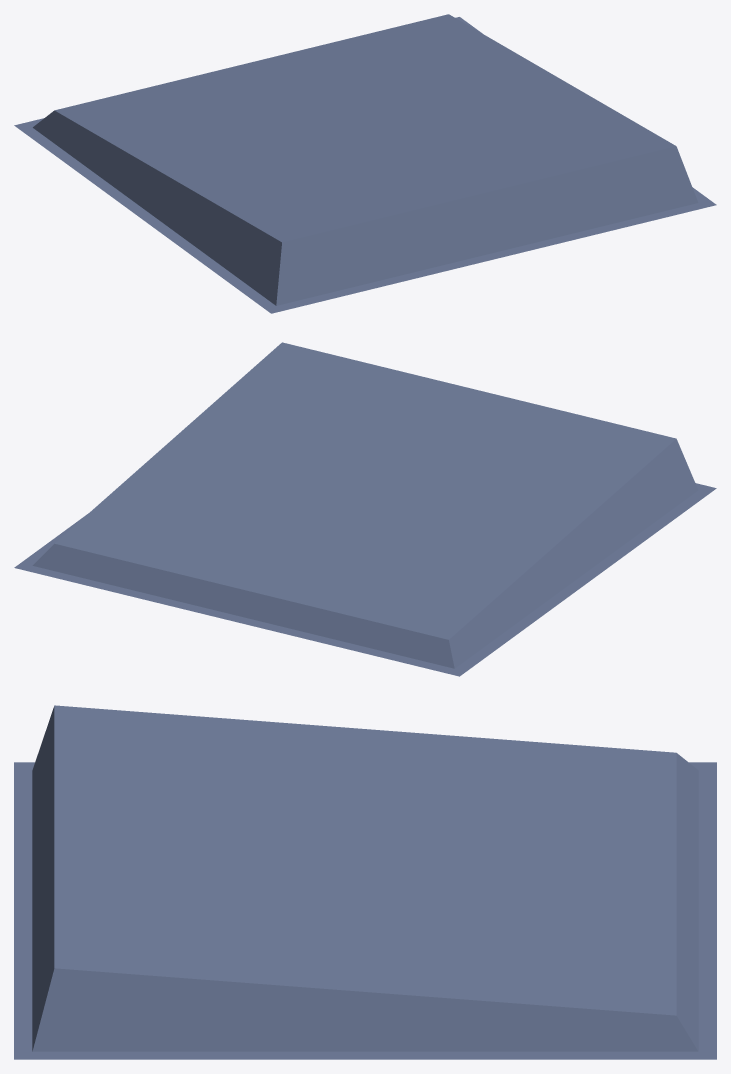
File: piso 4.fbx
The picture shows the model from 3 angles, top to bottom: view 1: azimuth 30°, elevation 25°; view 2: azimuth 150°, elevation 25°; view 3: azimuth 270°, elevation 25°; orthographic projection. The views are drawn at different scales.
Parts seen in each view (by area): view 1: tile.002; view 2: tile.002; view 3: tile.002.
Boxes of the visible parts, left/top/right/bottom form: tile.002: left=14, top=14, right=716, bottom=313; tile.002: left=14, top=342, right=716, bottom=676; tile.002: left=14, top=705, right=716, bottom=1059.
Size of the model in its own units: 105 by 12.25 by 105.
